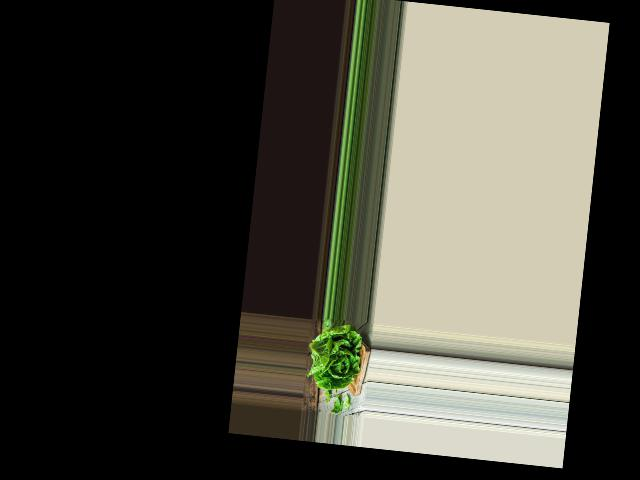lettuce: (307, 319, 367, 390)
